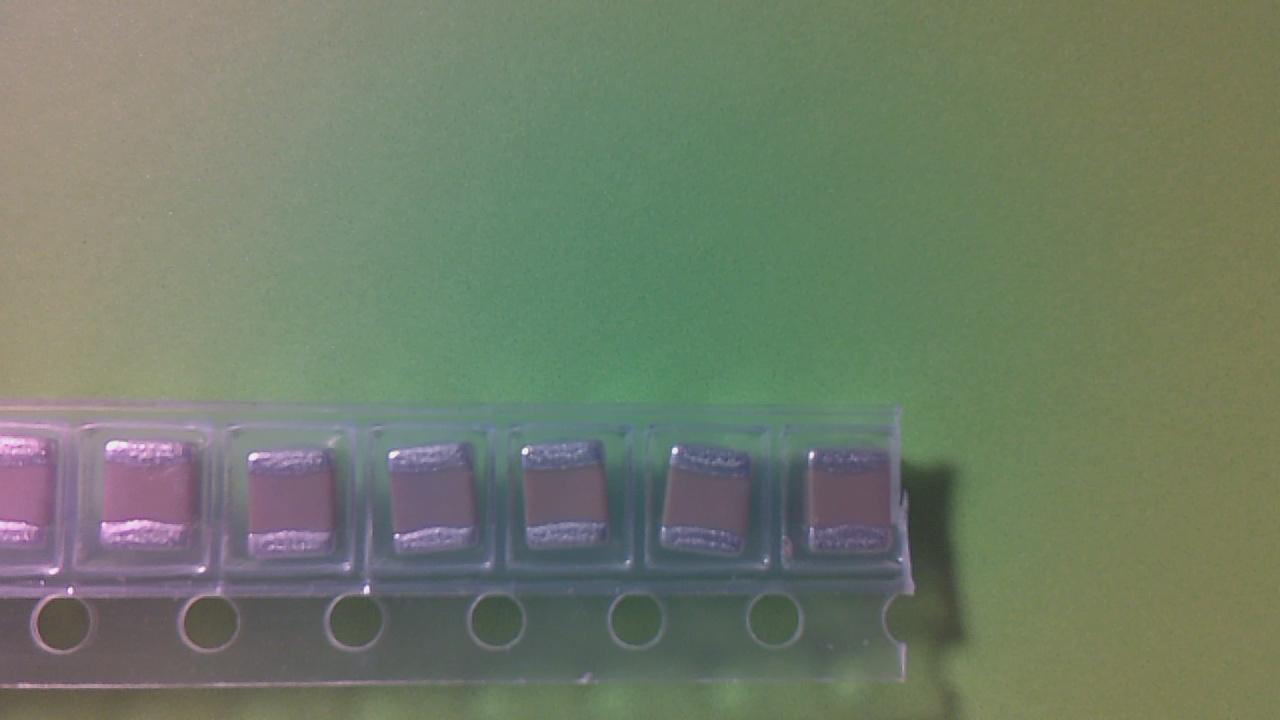Condensator: (102, 438, 199, 558), (661, 448, 757, 566), (248, 452, 336, 569), (526, 442, 607, 562), (811, 450, 897, 563), (393, 447, 475, 564), (7, 432, 53, 555)
